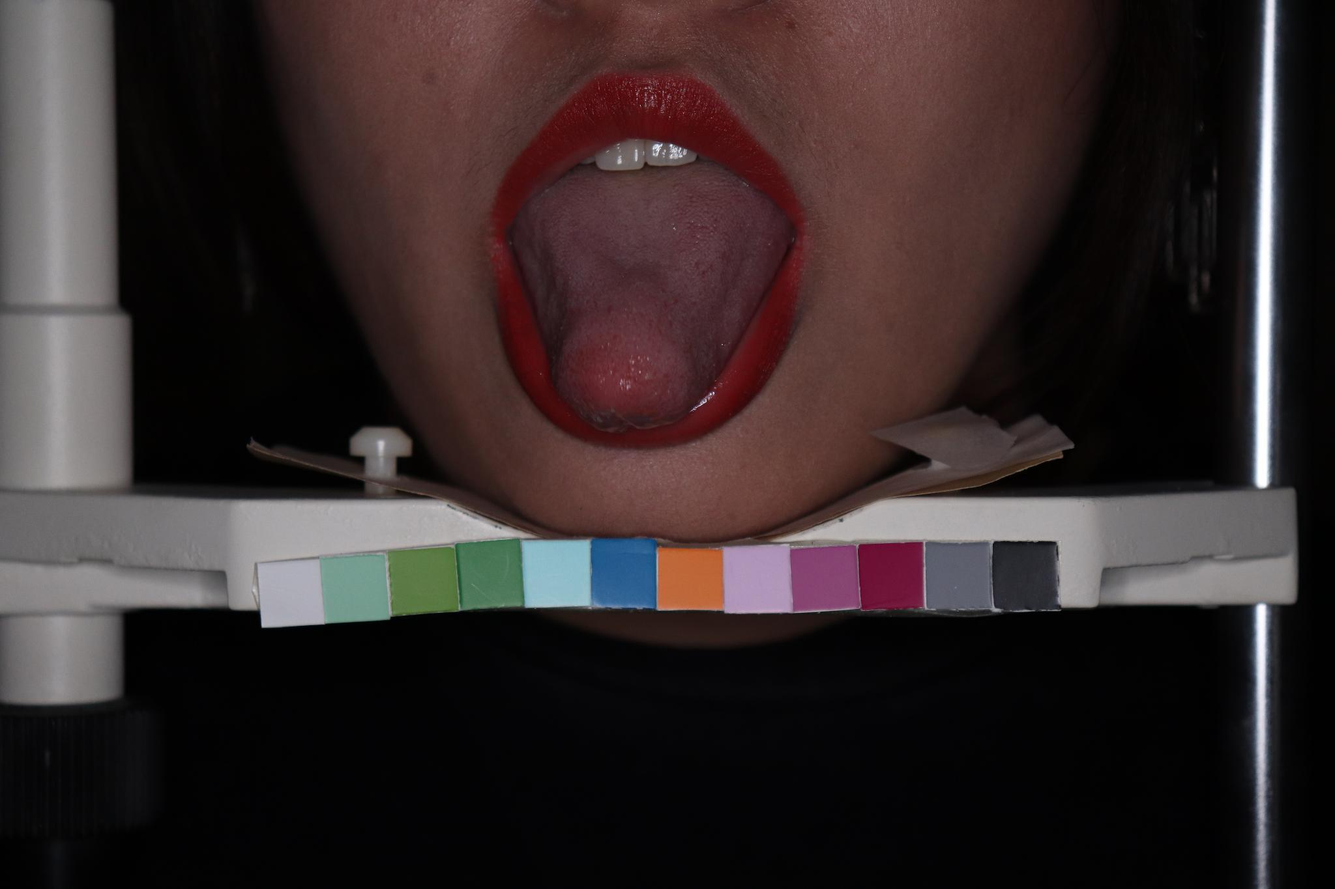baitaishe: (514, 173, 791, 433)
gandanao: (698, 223, 774, 368), (513, 224, 576, 351)
